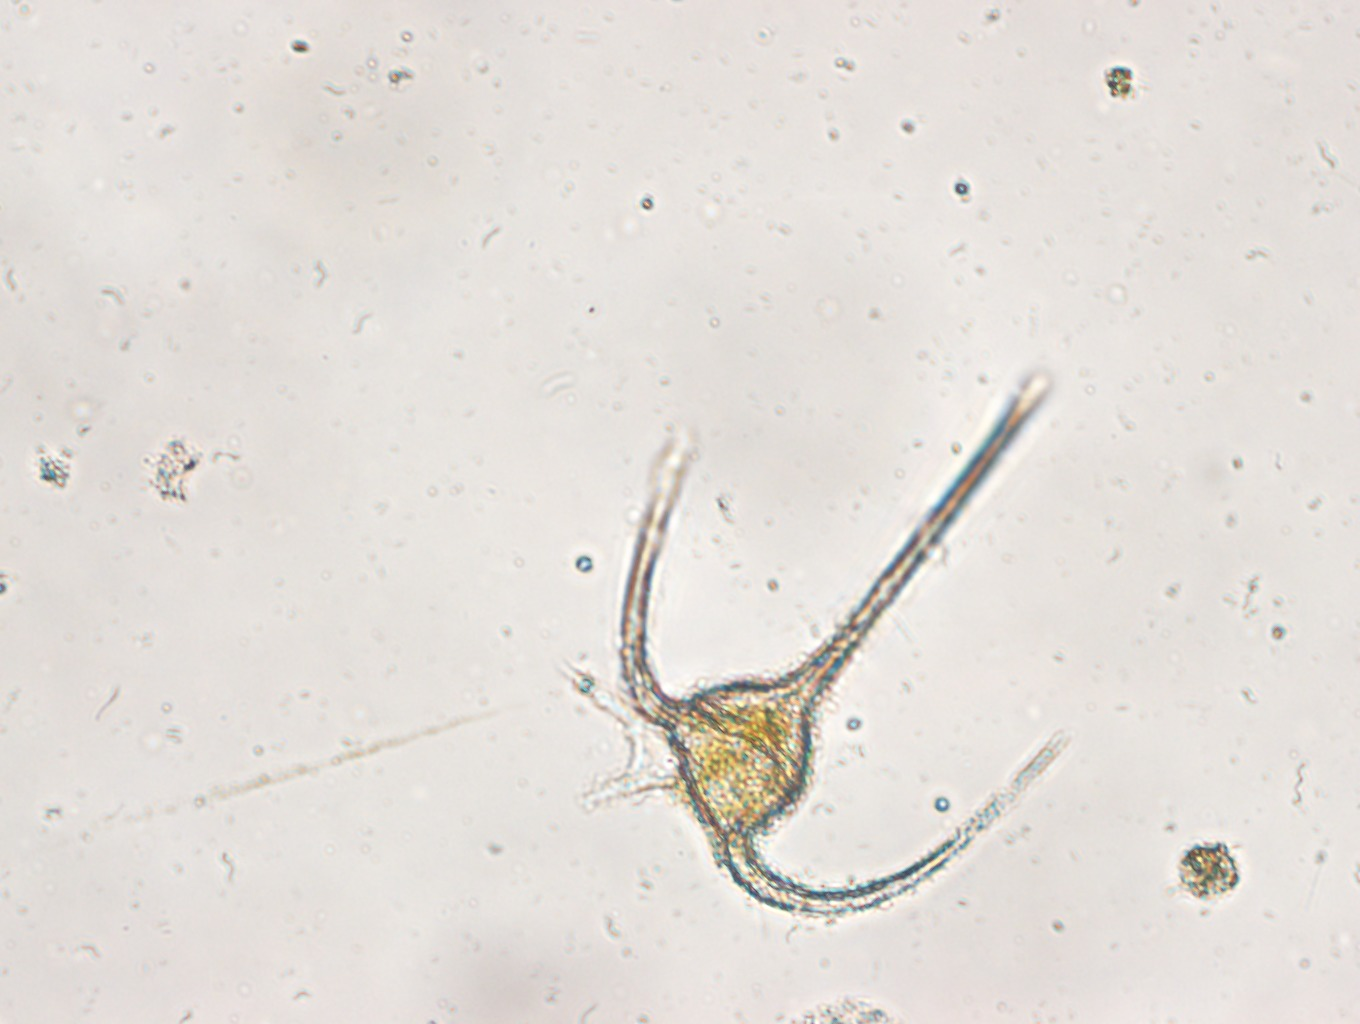ceratium trichoceros: (614, 330, 1082, 918)
